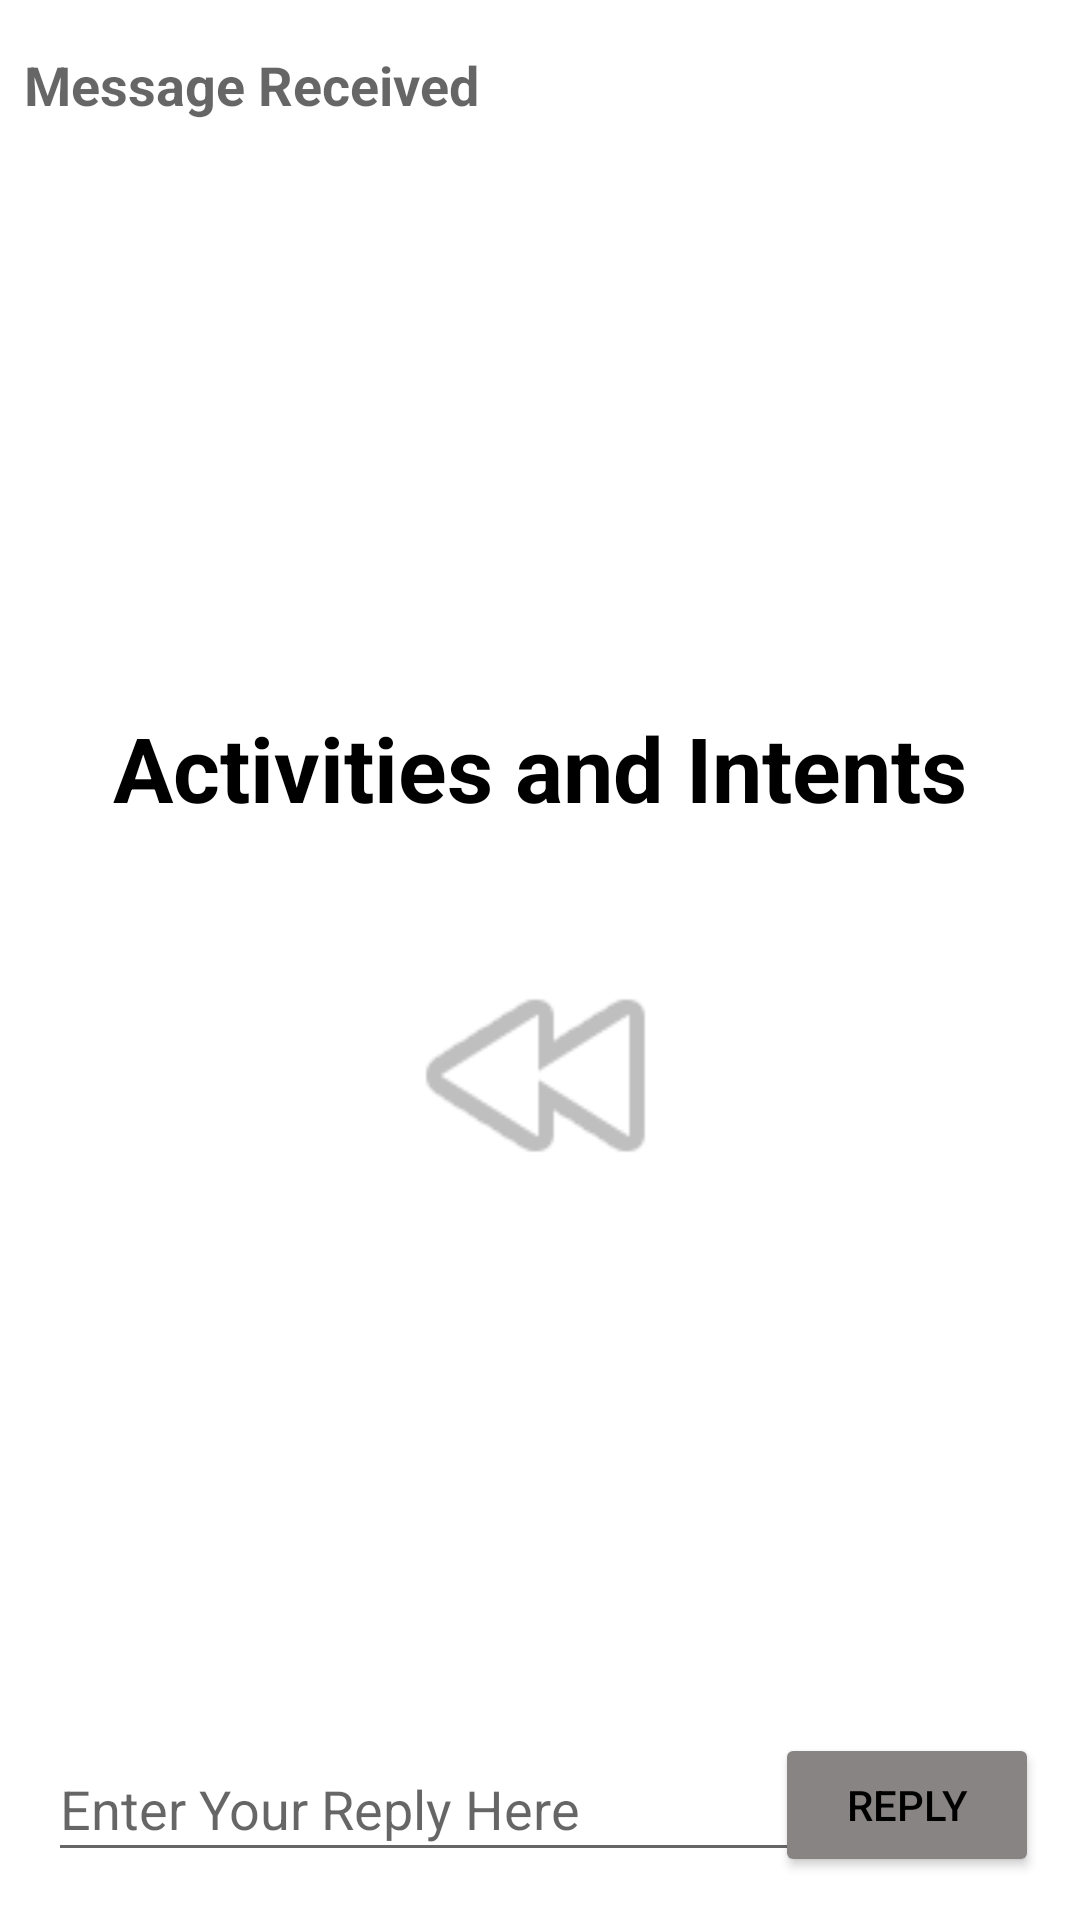

Screen size 1080w x 1920h. Icon name, then its center in pixels as [x,y]:
rew: [535,1075]
